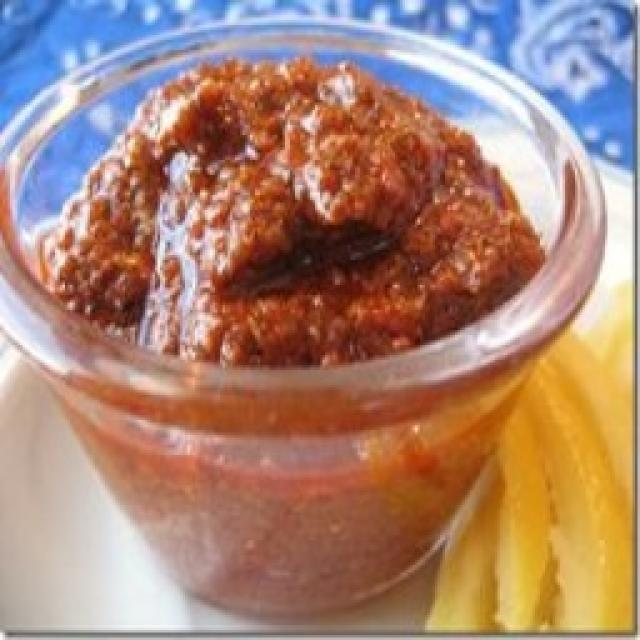Harissa: (0, 32, 598, 618)
